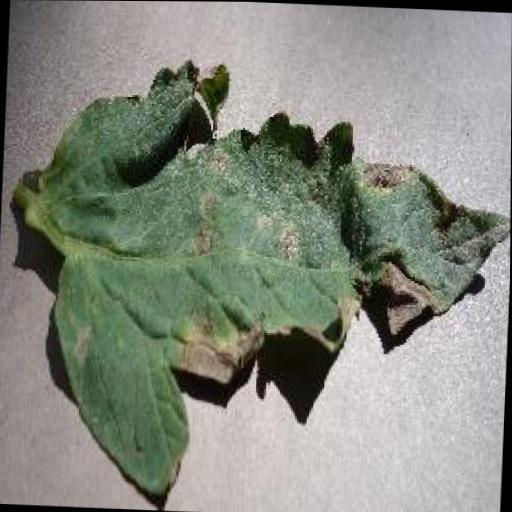Early Blight: (2, 53, 512, 507)
